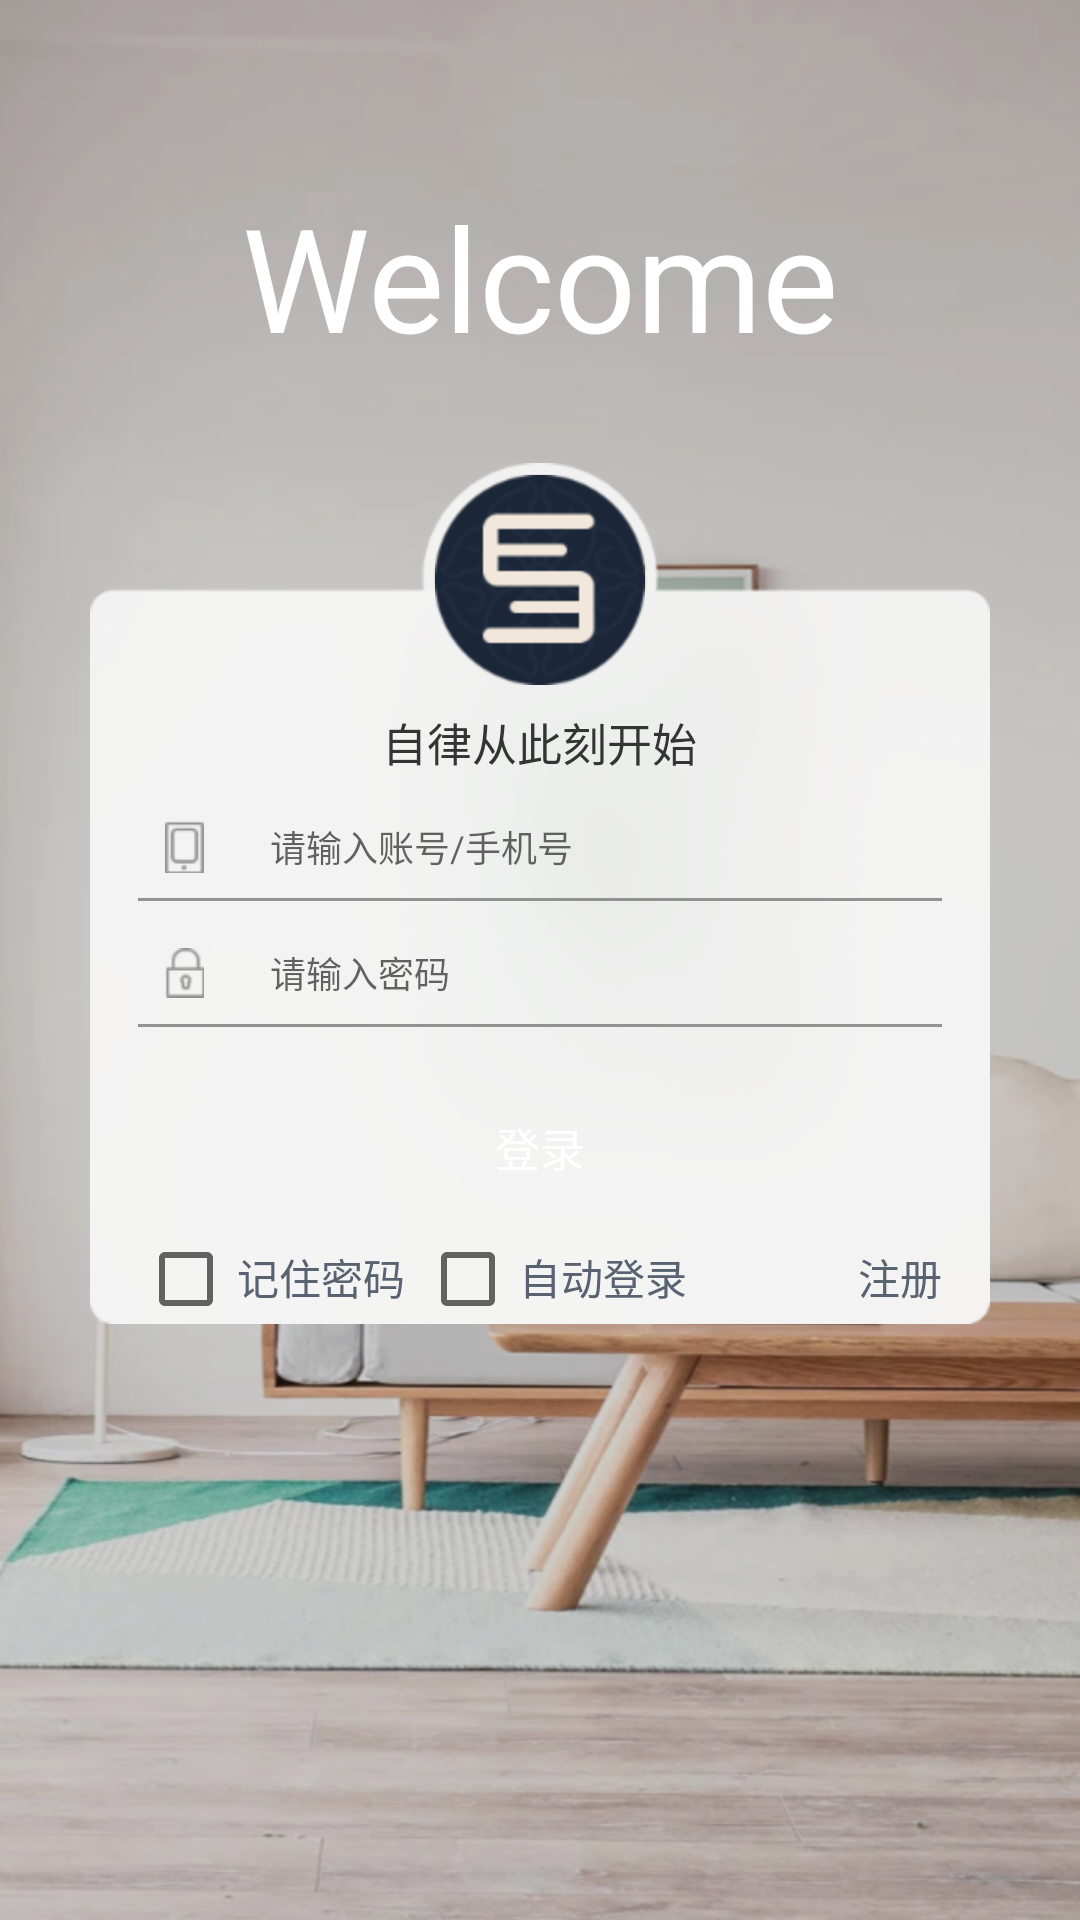

Screen size 1080 × 1920. Icon name, then its box in pixels as box=[x1, y1, x2, y2]:
lock: box=[166, 948, 204, 998]
phone: box=[165, 822, 204, 873]
